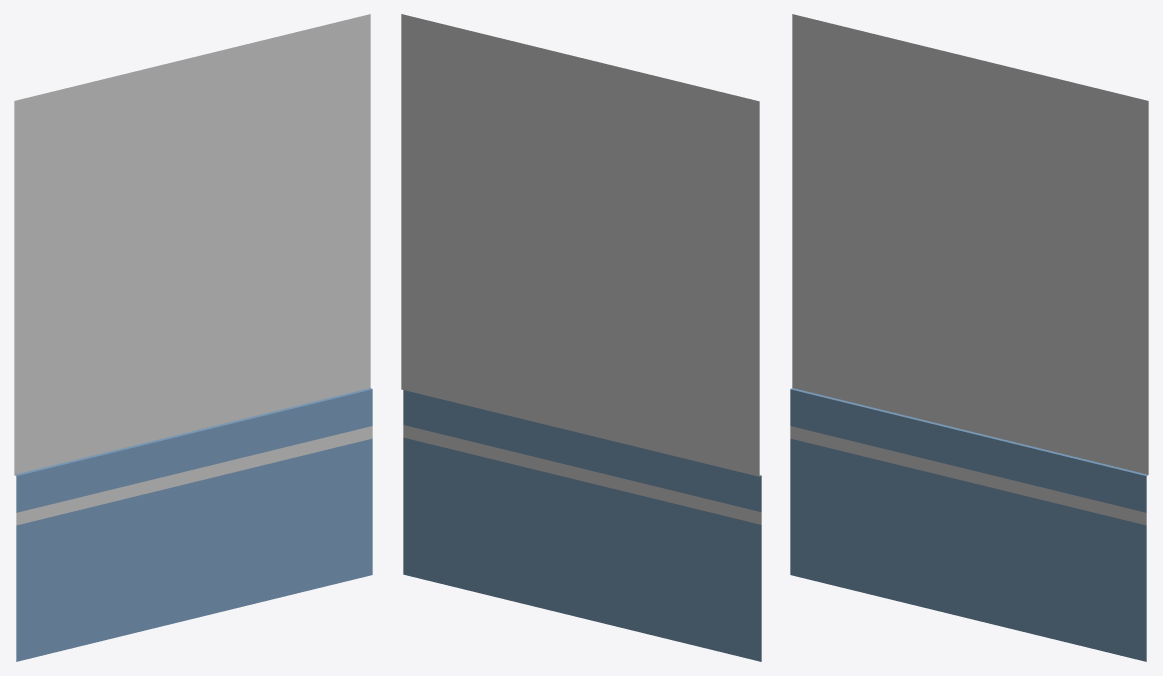
File: RoomWallPlane.glb
3 views of the same model, side by side, from view 1: azimuth 30°, elevation 25°; view 2: azimuth 150°, elevation 25°; view 3: azimuth 330°, elevation 25° (orthographic).
Parts seen in each view (by area): view 1: RoomWallPlane; view 2: RoomWallPlane; view 3: RoomWallPlane.
Part boxes in pixels (left/top/right/bottom): RoomWallPlane: left=14, top=14, right=372, bottom=661; RoomWallPlane: left=401, top=14, right=761, bottom=661; RoomWallPlane: left=790, top=14, right=1148, bottom=661.
Bounding box in the file's own units: 2 × 3 × 0.0189.
